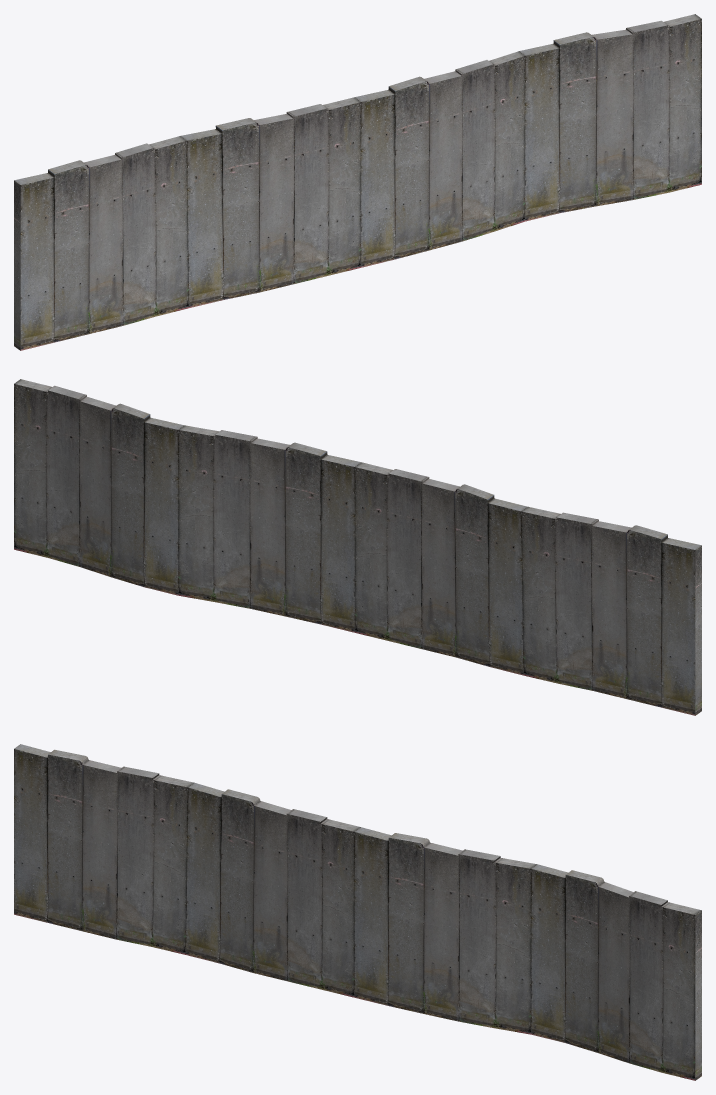
The model's file is c3_barrier3_long.fbx.
The picture shows the model from 3 angles, top to bottom: view 1: azimuth 30°, elevation 25°; view 2: azimuth 150°, elevation 25°; view 3: azimuth 330°, elevation 25°; orthographic projection.
Visible parts, largest first — view 1: Mesh; view 2: Mesh; view 3: Mesh.
Part boxes in pixels (bbox=[...]): Mesh: bbox=[14, 14, 701, 350]; Mesh: bbox=[14, 379, 701, 715]; Mesh: bbox=[14, 744, 701, 1080].
Bounding box in the file's own units: 1205 × 287 × 38.79.
